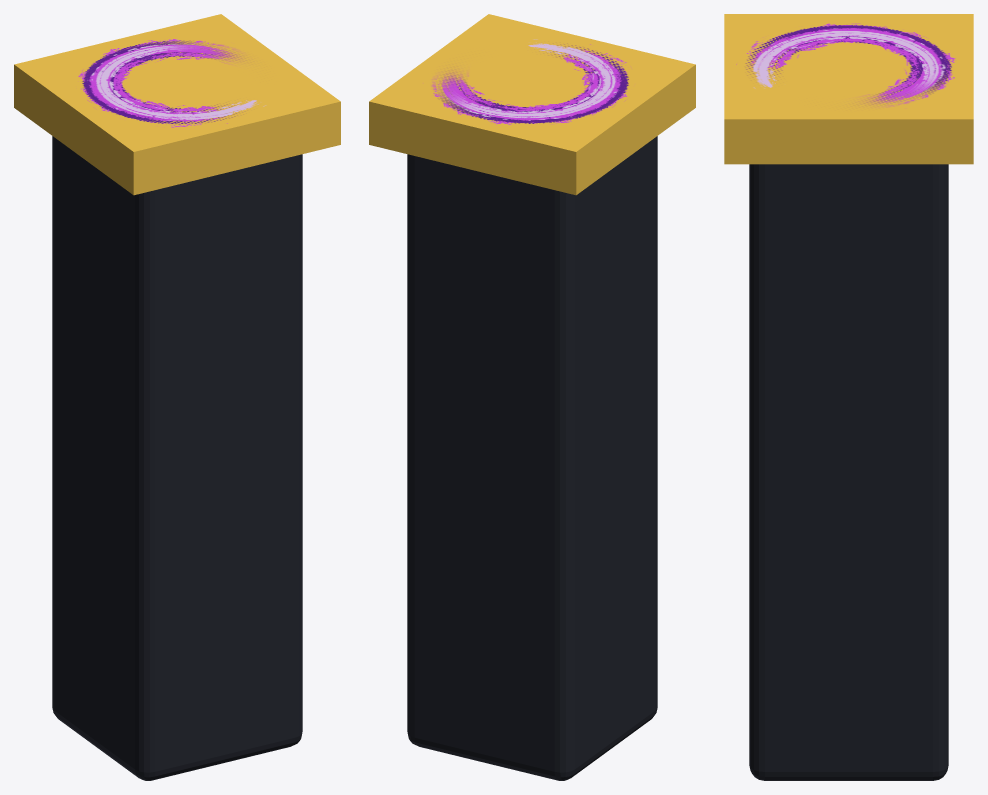
File: key_tower.glb
3 renders of one model, left to right at view 1: azimuth 30°, elevation 25°; view 2: azimuth 150°, elevation 25°; view 3: azimuth 270°, elevation 25°, orthographic. The views are drawn at different scales.
Visible parts, largest first — view 1: Cube.001, Cube; view 2: Cube.001, Cube; view 3: Cube.001, Cube.
Boxes of the visible parts, <box> form: Cube.001: <box>52,136,302,780</box>; Cube: <box>14,14,340,195</box>; Cube.001: <box>407,136,657,780</box>; Cube: <box>369,14,695,195</box>; Cube.001: <box>749,164,948,780</box>; Cube: <box>724,14,973,164</box>.
Size of the model in its own units: 1 by 3 by 1.
2 materials, 1 textured.
